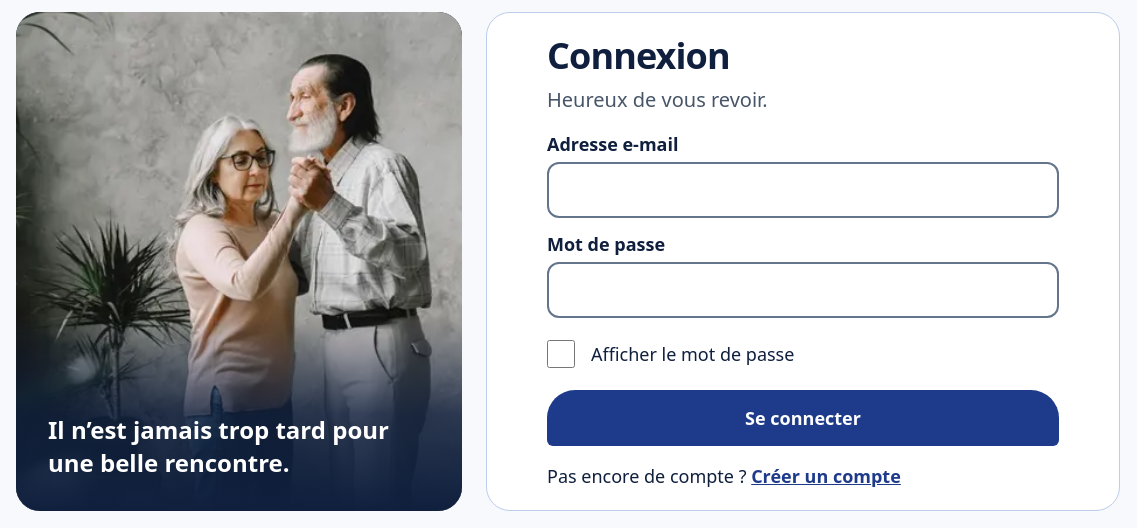
Scenario: LoginView › désactive le bouton pendant le chargement
Type "a@b.fr" into the field with id "email".
click(803, 190); type("a@b.fr")  # box 547,162 -> 1059,218
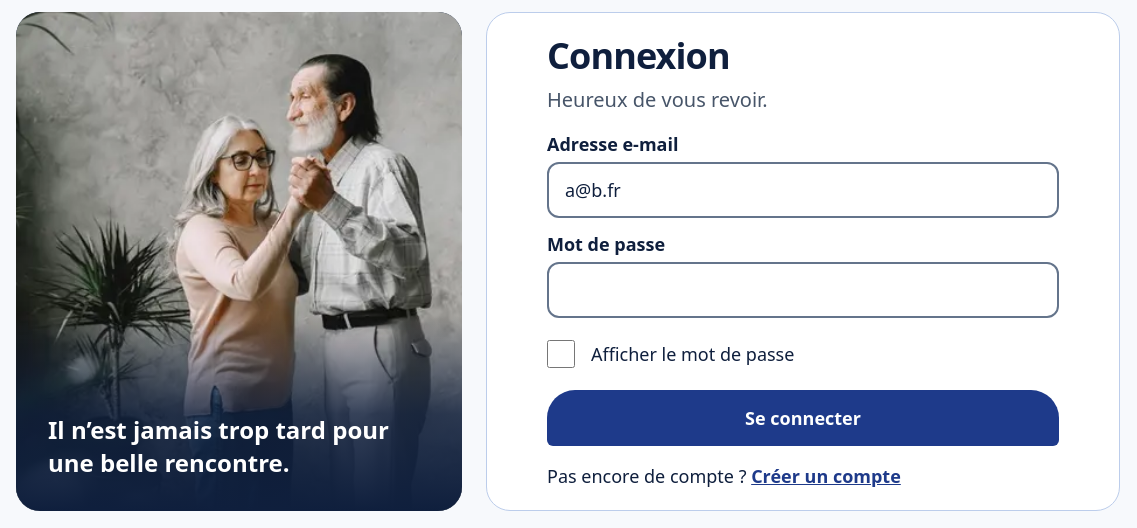
Type "secret" into the password field labelled "Mot de passe".
click(803, 290); type("secret")  # box 547,262 -> 1059,318
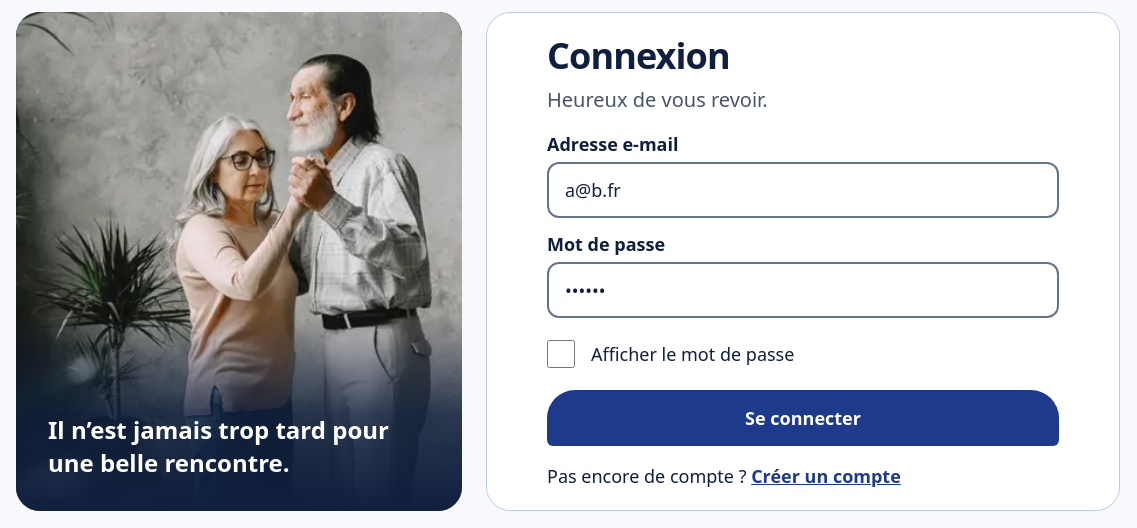
Submit the form, box 547,130 -> 1059,446
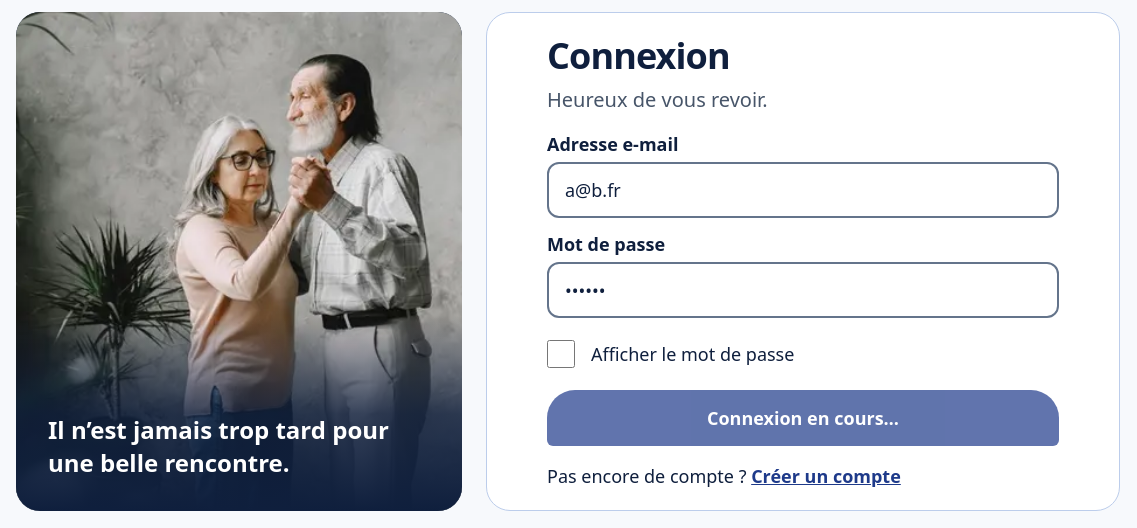
Expected: the submit button is disabled, 547,390 -> 1059,446
